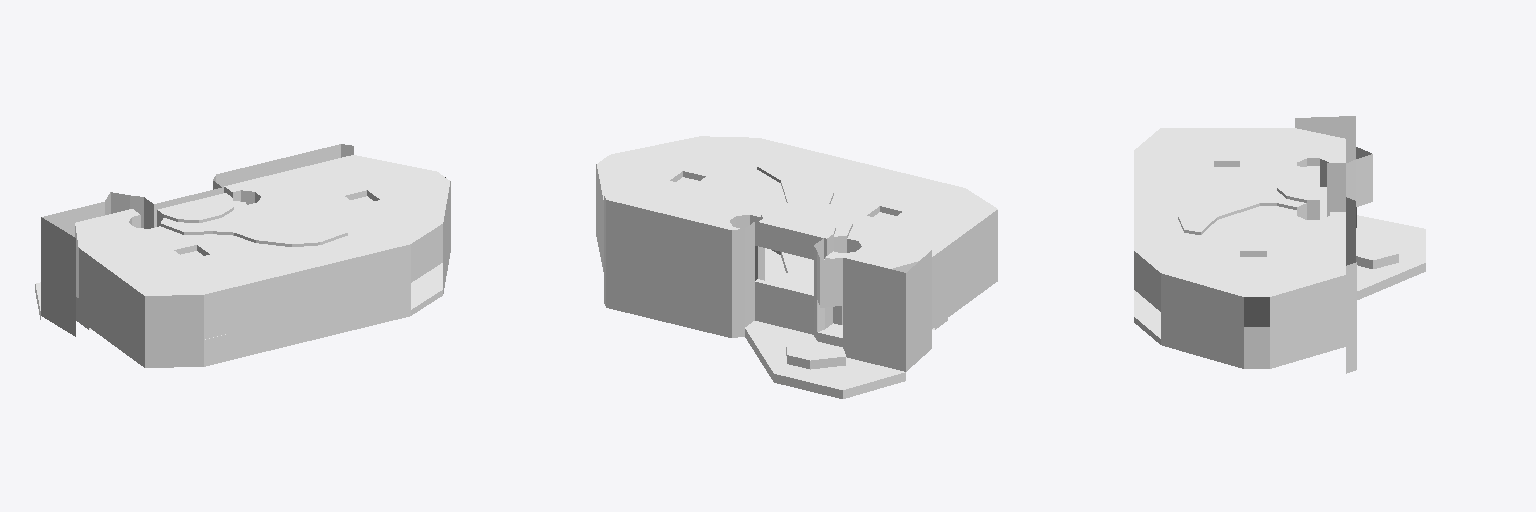
Rendered from DOOMIIM1_LR.obj.
3 views of the same model, side by side, from view 1: azimuth 30°, elevation 25°; view 2: azimuth 150°, elevation 25°; view 3: azimuth 270°, elevation 25° (orthographic).
Visible parts, largest first — view 1: cuartoiconico, parextclone, paredext, parext2, puertasalida; view 2: cuartoiconico, paredext, parext2, parextclone, Object001; view 3: cuartoiconico, parextclone, Object002, puertasecreta, Object001.
Part boxes in pixels (left/top/right/bottom): cuartoiconico: left=35, top=155, right=450, bottom=367; parextclone: left=41, top=217, right=75, bottom=336; paredext: left=216, top=144, right=340, bottom=192; parext2: left=42, top=202, right=104, bottom=236; puertasalida: left=204, top=334, right=226, bottom=366; cuartoiconico: left=596, top=136, right=997, bottom=398; paredext: left=606, top=200, right=731, bottom=337; parext2: left=843, top=258, right=905, bottom=371; parextclone: left=906, top=250, right=931, bottom=371; Object001: left=732, top=229, right=744, bottom=337; cuartoiconico: left=1134, top=128, right=1425, bottom=368; parextclone: left=1295, top=116, right=1355, bottom=162; Object002: left=1346, top=262, right=1356, bottom=373; puertasecreta: left=1244, top=297, right=1269, bottom=326; Object001: left=1346, top=197, right=1355, bottom=265.
Size of the model in its own units: 28.67 by 8.39 by 20.53.